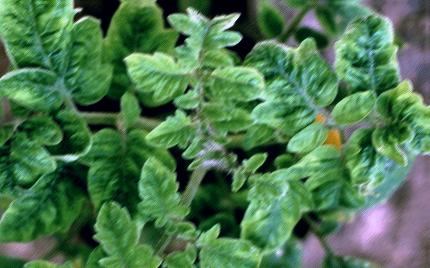Tomato leaf yellow virus: (0, 0, 103, 111), (251, 26, 356, 131), (329, 4, 425, 102), (0, 151, 90, 244), (93, 193, 165, 268), (243, 180, 311, 255), (127, 38, 203, 103), (201, 55, 276, 109), (192, 221, 270, 268)
